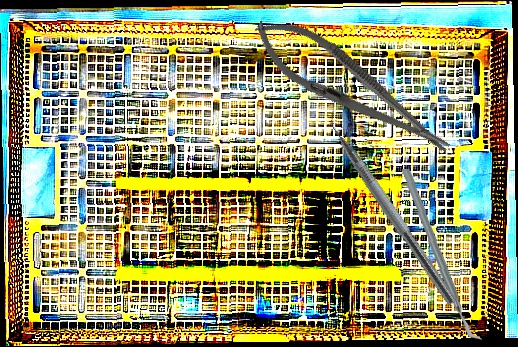Chopper: (312, 97, 472, 307), (396, 168, 488, 342)
Needle Holder: (241, 2, 463, 174)
